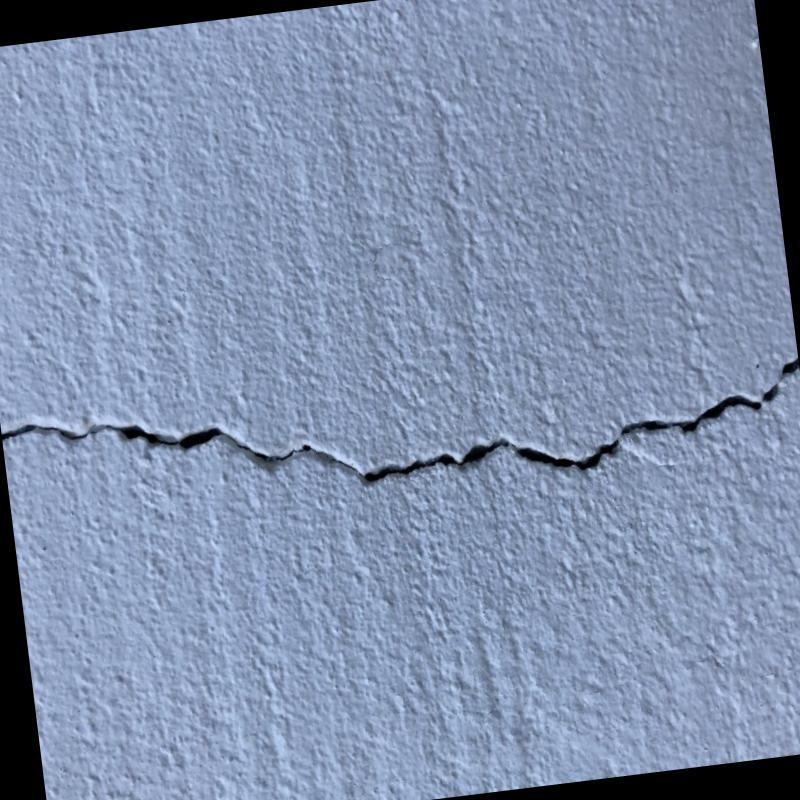crack: (6, 354, 800, 490)
